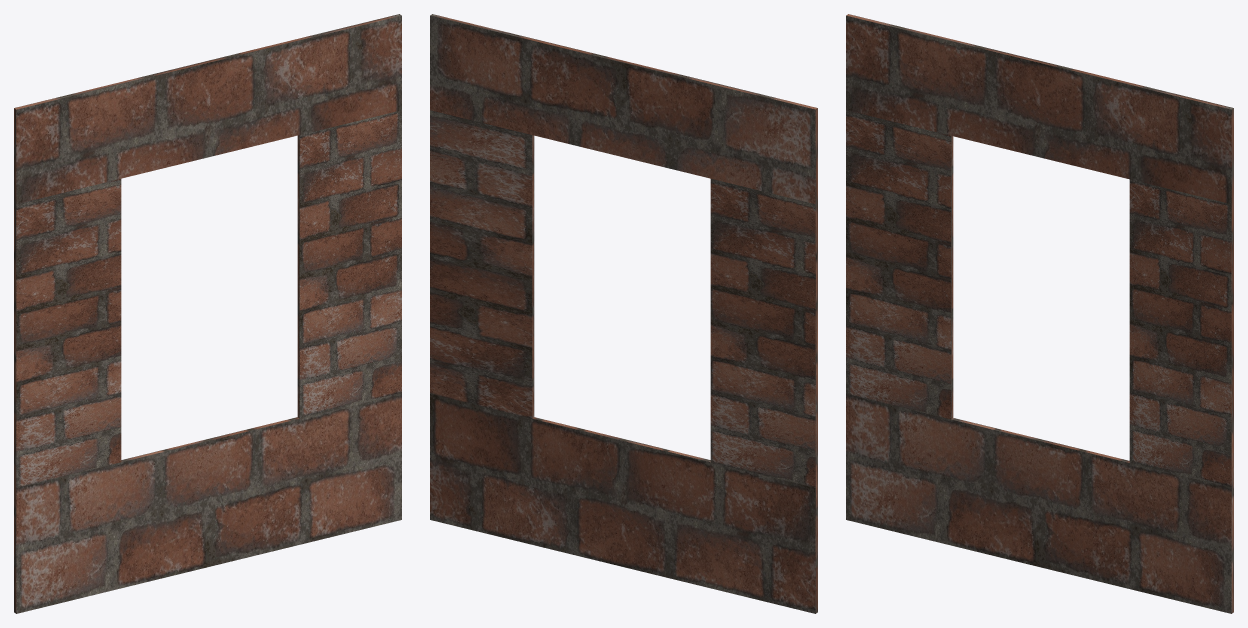
Rendered from SimpleWindowForMaterial.fbx.
3 views of the same model, side by side, from view 1: azimuth 30°, elevation 25°; view 2: azimuth 150°, elevation 25°; view 3: azimuth 330°, elevation 25° (orthographic).
Parts seen in each view (by area): view 1: Cube.001; view 2: Cube.001; view 3: Cube.001.
Part boxes in pixels (left/top/right/bottom): Cube.001: left=14, top=14, right=401, bottom=613; Cube.001: left=430, top=14, right=817, bottom=613; Cube.001: left=846, top=14, right=1233, bottom=613.
Bounding box in the file's own units: 200 × 250 × 2.
